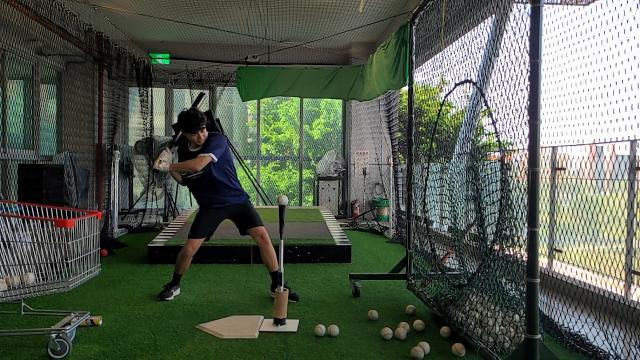ball: (277, 195, 289, 206)
bat: (169, 92, 207, 148)
